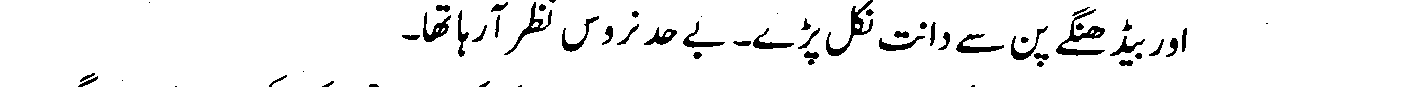bay_shosha: (1133, 36, 1144, 60)
